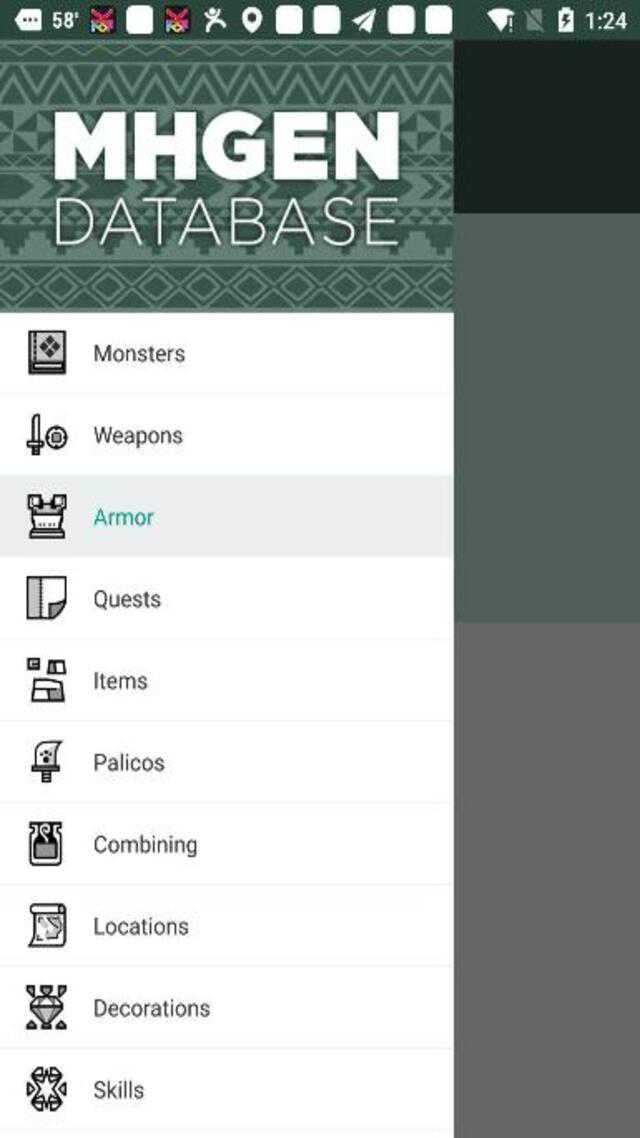Image: (0, 40, 452, 312), (26, 984, 68, 1028), (26, 412, 68, 456), (26, 576, 68, 619), (27, 493, 66, 538), (27, 1066, 66, 1110), (27, 657, 66, 701), (28, 330, 66, 374), (28, 903, 66, 946), (28, 821, 62, 865), (30, 740, 63, 782)
Text: (95, 337, 184, 367), (95, 419, 181, 449), (93, 835, 196, 858), (96, 999, 210, 1017), (95, 918, 188, 936), (94, 751, 164, 771), (95, 589, 161, 609), (93, 508, 153, 526), (94, 1079, 144, 1097), (96, 673, 148, 689)
